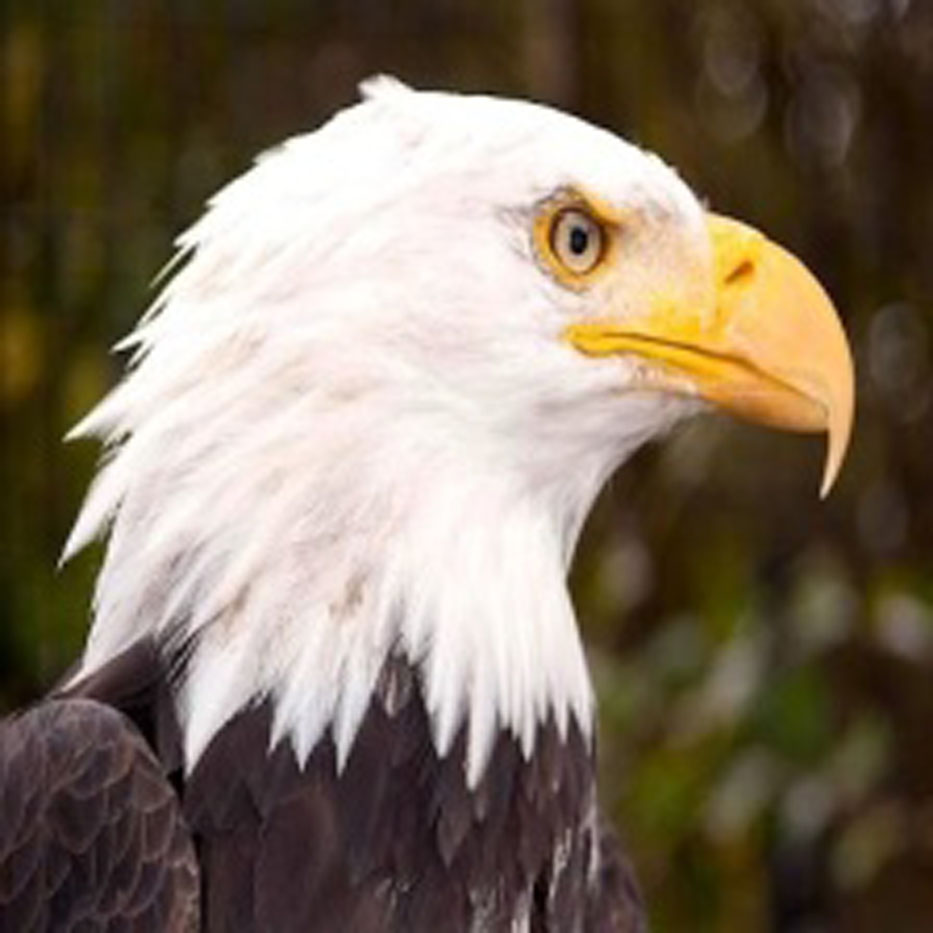Pengoyak Daging: (697, 204, 881, 524)
